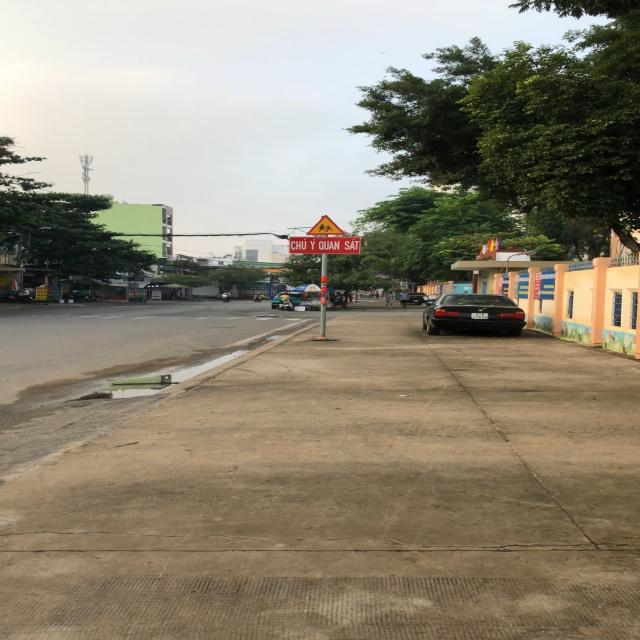Bien bao tre em: (303, 212, 347, 236)
